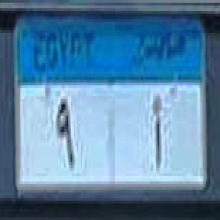9: (53, 96, 75, 176)
alif: (148, 94, 166, 170)
